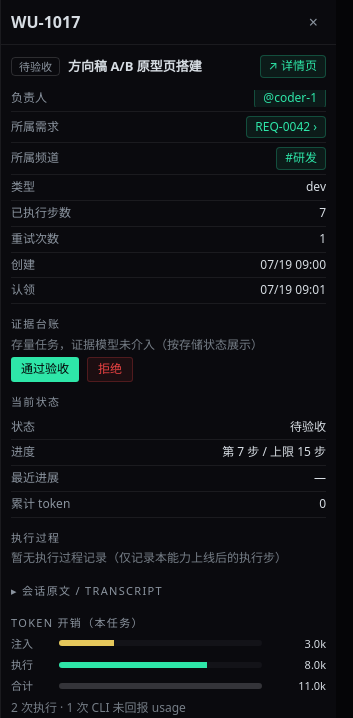
Test case: WorkUnitDrawer › 批次A 项5：审查闸门「通过」失败 → 错误行内联进抽屉（服务端 error.message 优先）
Click the button "通过验收".
click(45, 370)  # box top-left (11, 357), bottom-right (79, 382)
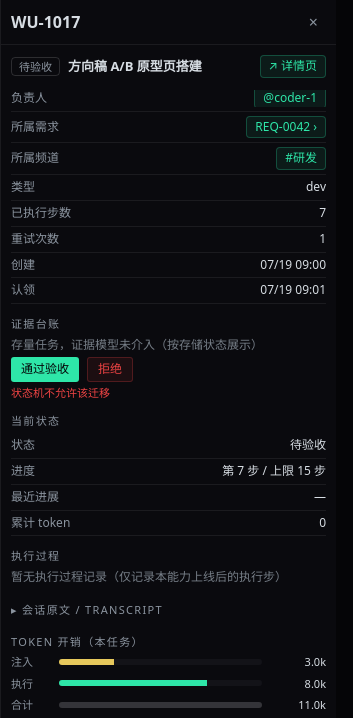
Expected: the text "状态机不允许该迁移" is shown, top-left (11, 385), bottom-right (110, 400)
